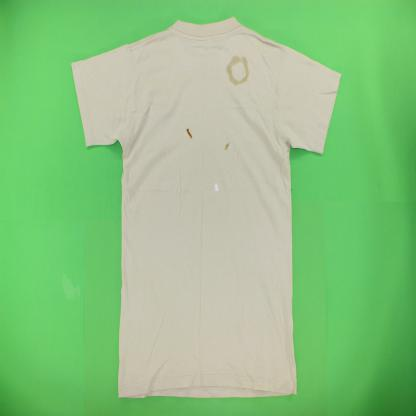stain: (225, 52, 250, 89), (184, 127, 194, 141), (213, 181, 220, 193), (223, 142, 231, 152)
